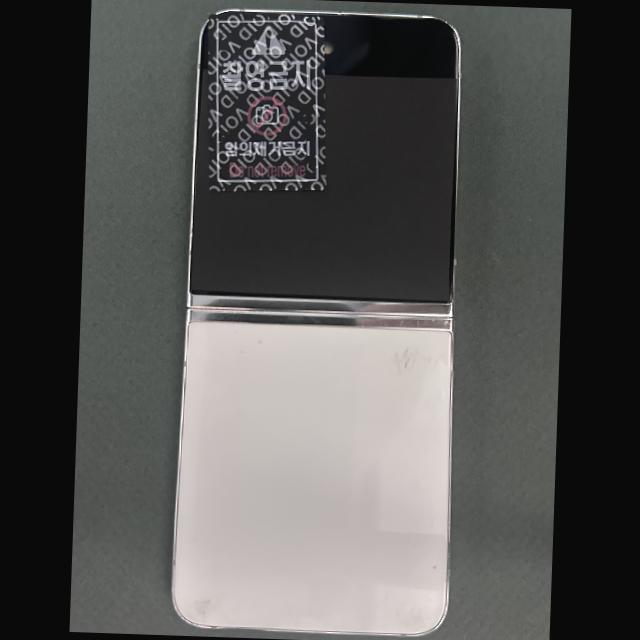phone: (173, 10, 459, 635)
sticker: (208, 13, 326, 192)
